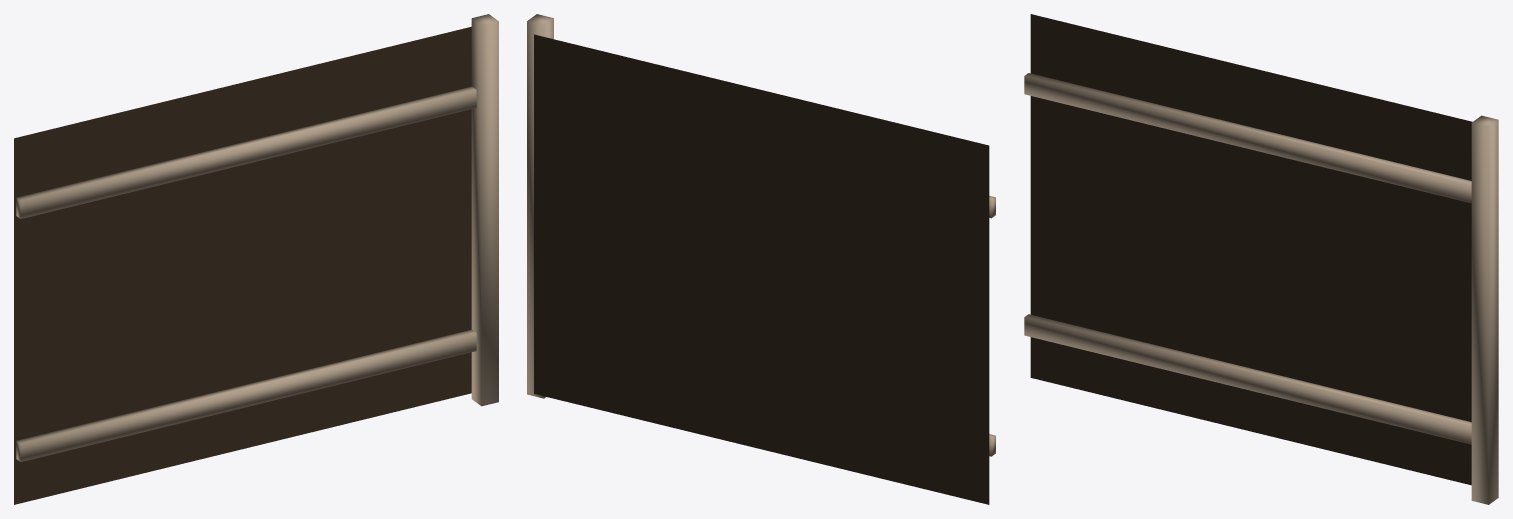
File: fence_wood.glb
The picture shows the model from 3 angles, left to right: view 1: azimuth 30°, elevation 25°; view 2: azimuth 150°, elevation 25°; view 3: azimuth 330°, elevation 25°; orthographic projection.
Parts seen in each view (by area): view 1: fence_wood; view 2: fence_wood; view 3: fence_wood.
Boxes of the visible parts, x1,y1,x2,y2 form: fence_wood: (14,14,498,504); fence_wood: (527,14,995,504); fence_wood: (1024,14,1498,504).
Bounding box in the file's own units: 2.45 × 1.88 × 0.105.
Materials: 2 (1 with a texture image).
